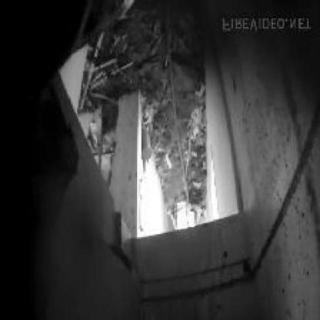other: (163, 152, 223, 242)
